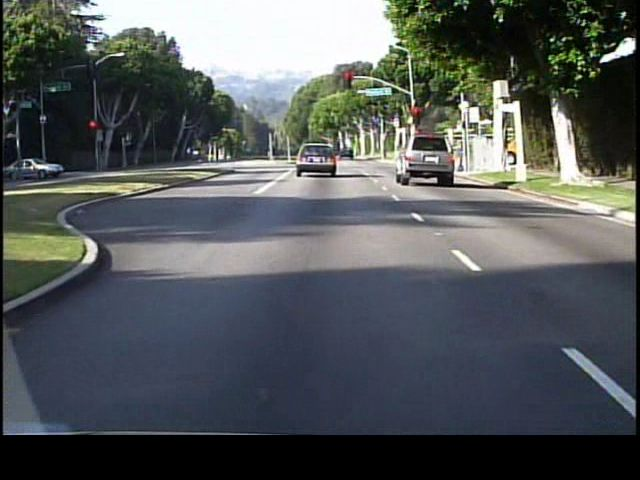car: (395, 135, 454, 182), (293, 141, 341, 178)
strada: (1, 213, 637, 446)
